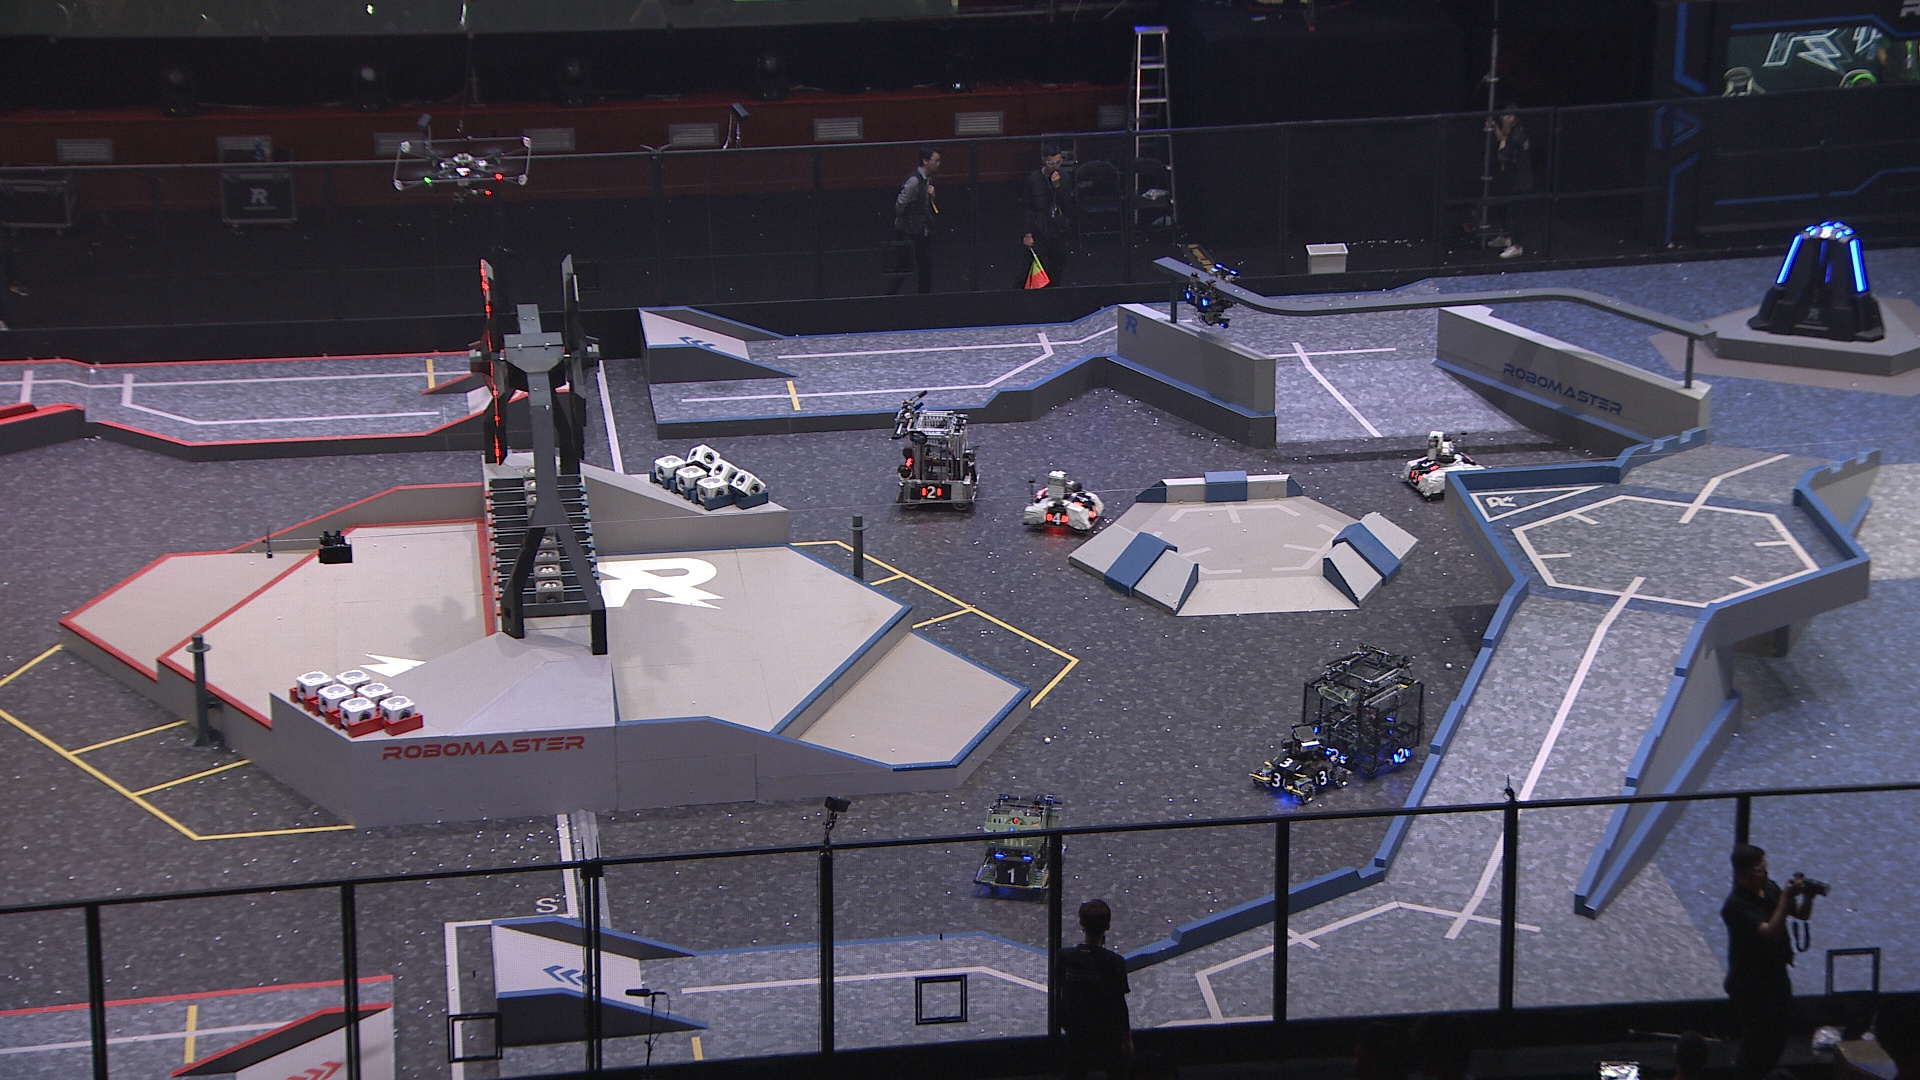armor: (1776, 233, 1803, 286), (1846, 237, 1869, 291), (996, 866, 1030, 887), (1807, 223, 1845, 240), (1182, 291, 1211, 309), (1323, 746, 1349, 765), (916, 484, 944, 501), (1044, 509, 1069, 527), (1393, 746, 1411, 767), (1313, 766, 1332, 787), (1273, 756, 1302, 769), (1269, 770, 1287, 790), (1069, 491, 1088, 508), (1416, 458, 1437, 471), (1408, 469, 1424, 485), (1088, 502, 1098, 520)
base: (1746, 219, 1887, 344)
car: (1298, 647, 1427, 779), (975, 789, 1073, 897), (891, 406, 981, 513), (1250, 725, 1349, 804), (1400, 431, 1489, 500), (1021, 469, 1105, 534)
watcher: (1182, 262, 1244, 330)
